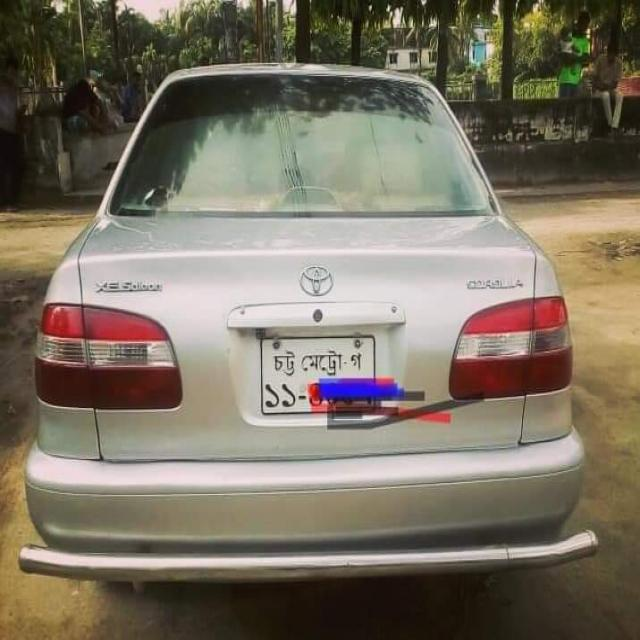silver: (0, 59, 593, 564)
